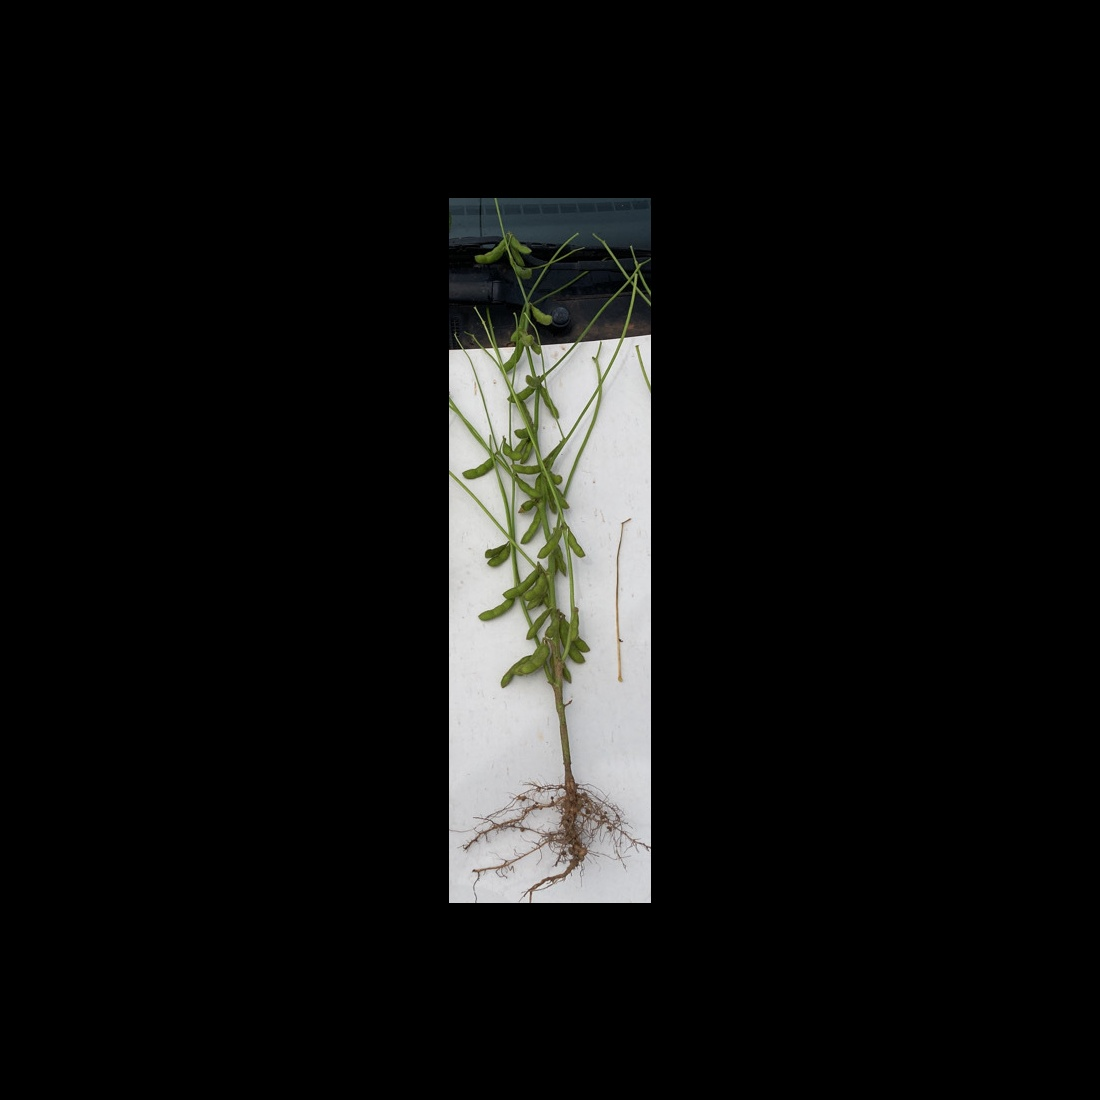pod: (501, 568, 542, 600), (517, 645, 552, 677), (537, 526, 567, 561), (560, 525, 586, 560), (477, 598, 517, 622), (461, 456, 497, 480), (520, 509, 541, 548), (513, 474, 544, 500), (488, 544, 510, 568)
soy: (458, 213, 637, 866)
